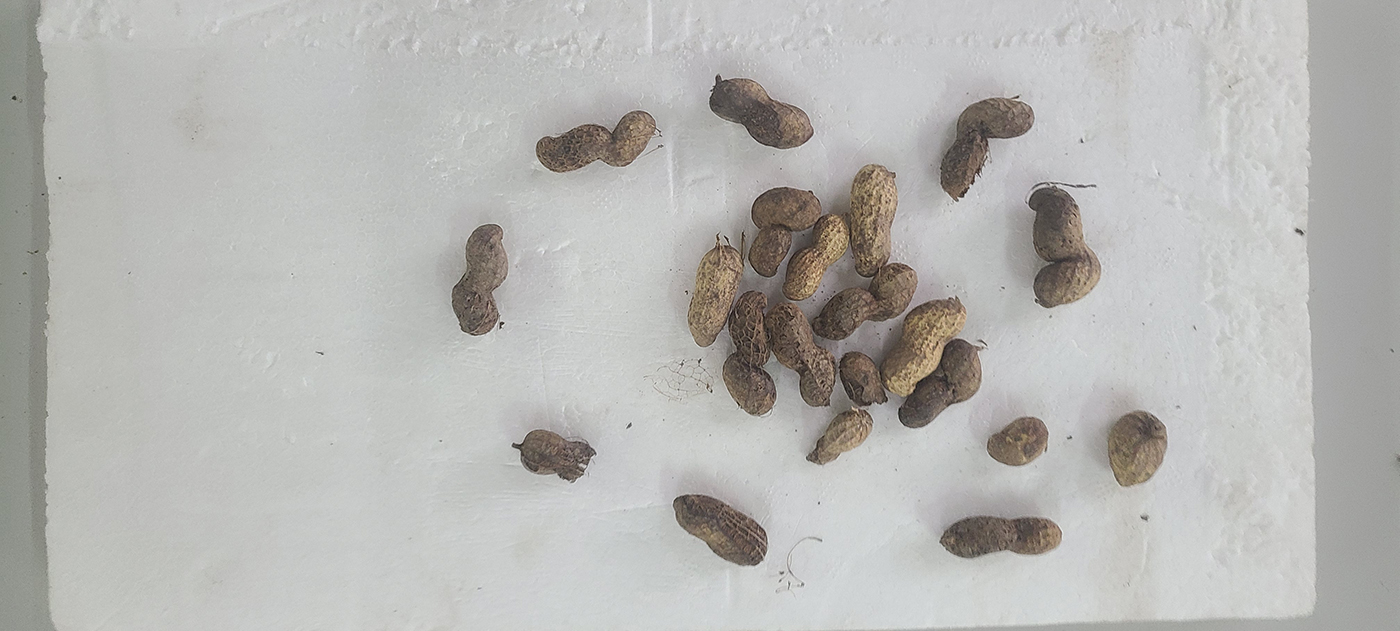l: (939, 97, 1034, 201), (1030, 188, 1102, 309), (810, 265, 918, 343), (882, 297, 965, 397), (534, 108, 655, 173), (710, 76, 815, 149), (898, 338, 983, 428), (766, 301, 836, 408), (722, 290, 778, 417), (672, 493, 768, 565), (451, 222, 508, 337), (687, 245, 742, 348), (787, 213, 850, 299), (938, 515, 1063, 558), (850, 164, 897, 278), (1106, 409, 1168, 487), (520, 429, 594, 484), (810, 409, 872, 464), (751, 187, 823, 230), (986, 417, 1048, 465), (840, 351, 888, 405), (748, 227, 792, 277)
